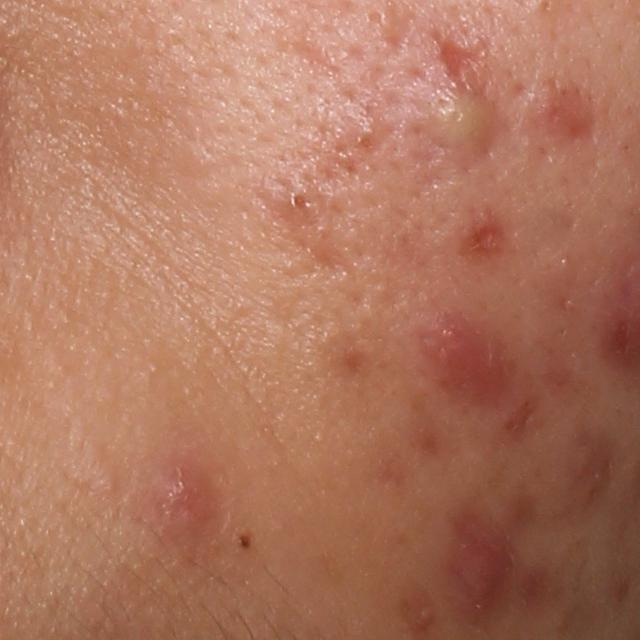atrophic_scar: (255, 193, 342, 270), (273, 33, 345, 80), (431, 25, 485, 86)
nevus: (233, 534, 252, 549)
papule: (142, 464, 224, 544), (432, 317, 506, 396), (453, 541, 509, 609)
